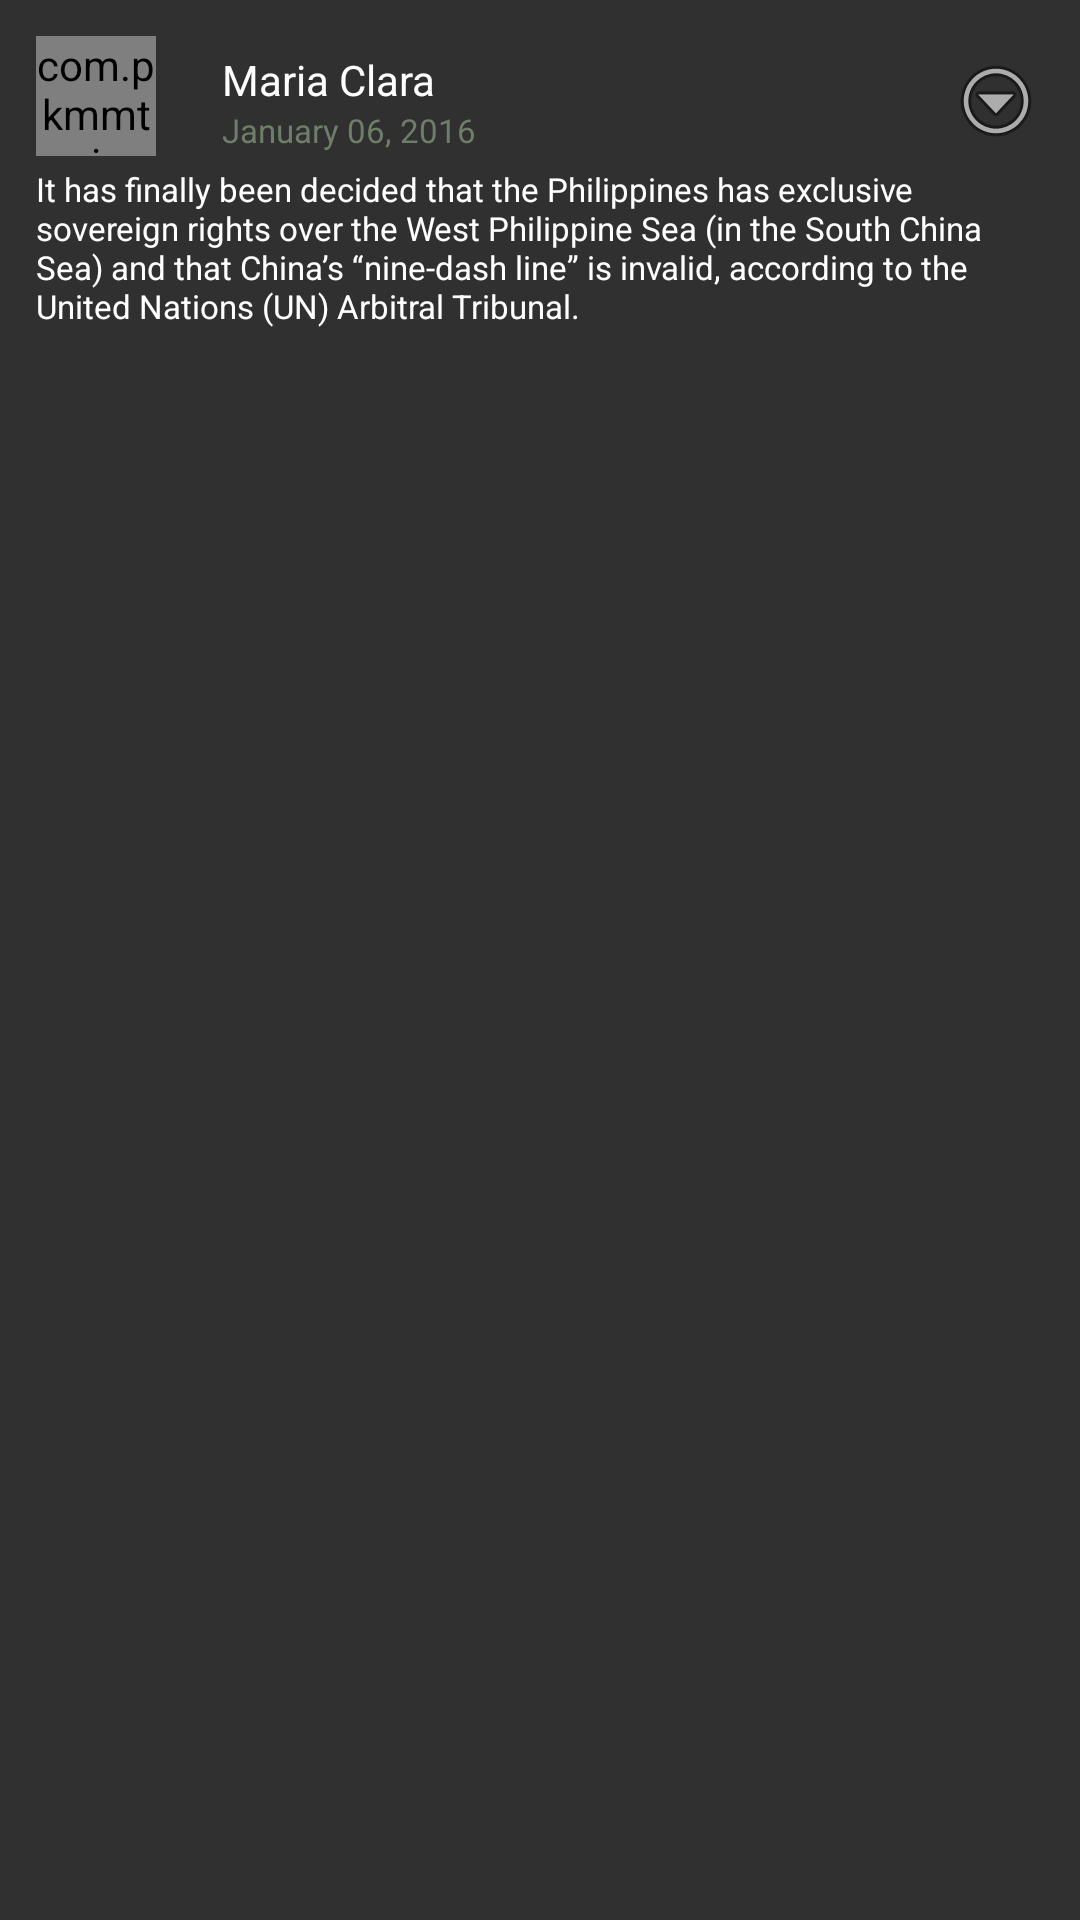

Where to tap for icons on this 1080px×1920px app screen, as point (x, y):
more: point (996, 101)
